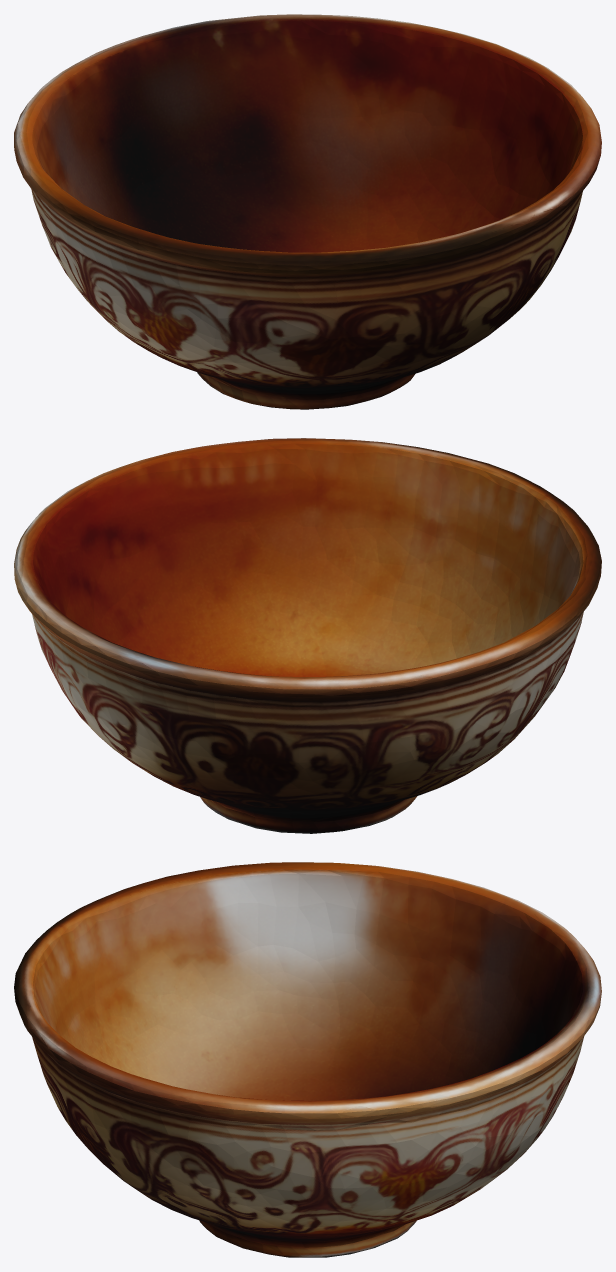
File: ceramic-mixing-bowl-vintage.jpeg.glb
The picture shows the model from 3 angles, top to bottom: view 1: azimuth 30°, elevation 25°; view 2: azimuth 150°, elevation 25°; view 3: azimuth 270°, elevation 25°; orthographic projection.
Parts seen in each view (by area): view 1: world; view 2: world; view 3: world.
Boxes of the visible parts, x1,y1,x2,y2 form: world: [14, 14, 601, 409]; world: [14, 438, 601, 833]; world: [14, 862, 601, 1257].
Bounding box in the file's own units: 0.998 × 0.4314 × 0.9978.
1 material, 1 textured.
